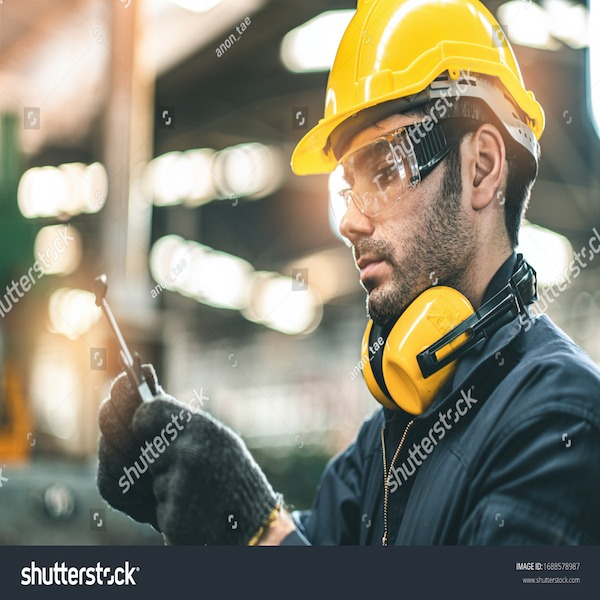helmet: (295, 3, 558, 131)
